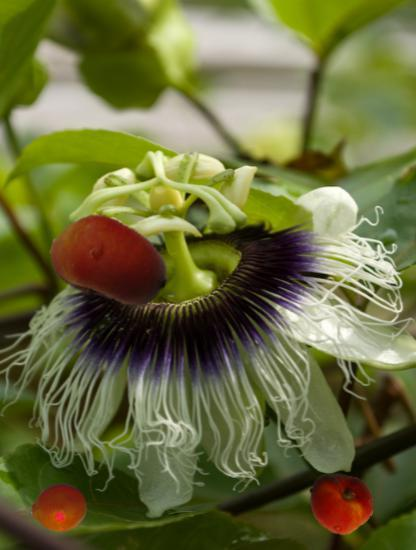Nectarine: (50, 200, 171, 321), (307, 470, 375, 538)
Tangelo: (31, 480, 87, 536)
